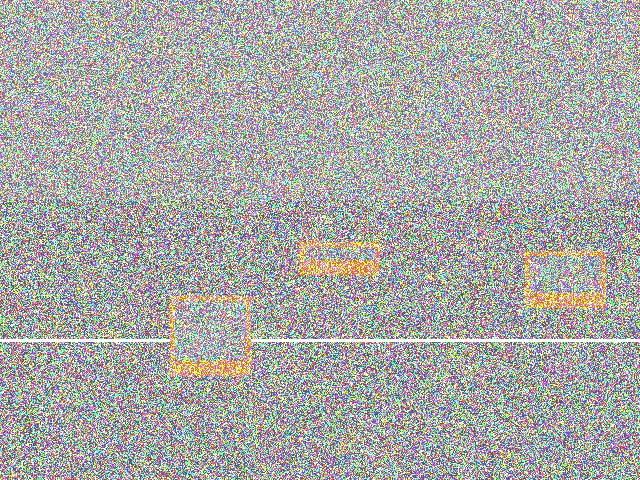truck: (267, 125, 365, 220)
